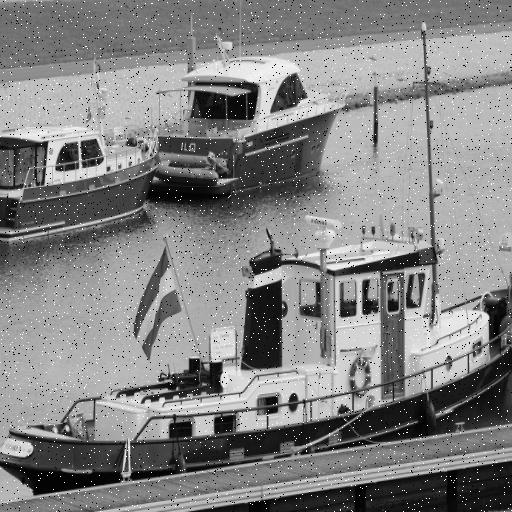tugboat: (1, 209, 512, 511)
